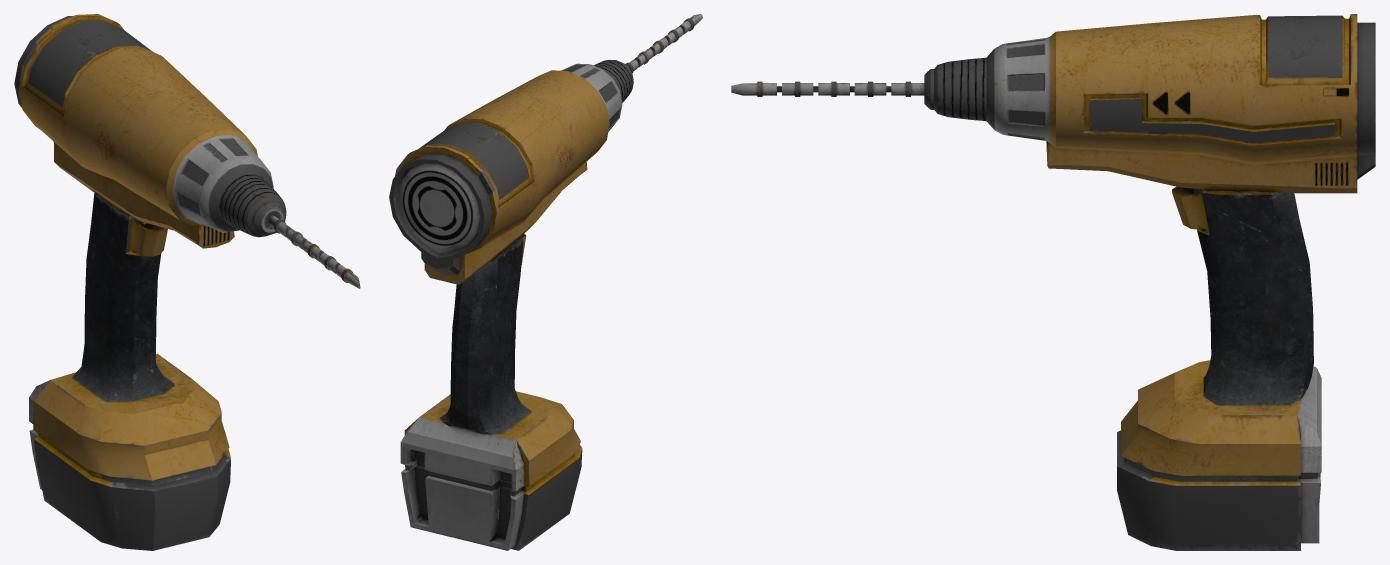
Rendered from Boor.fbx.
3 views of the same model, side by side, from view 1: azimuth 30°, elevation 25°; view 2: azimuth 150°, elevation 25°; view 3: azimuth 270°, elevation 25° (orthographic). The views are drawn at different scales.
Visible parts, largest first — view 1: Cube.024; view 2: Cube.024; view 3: Cube.024.
Boxes of the visible parts, x1=… form: Cube.024: x1=14, y1=14, x2=360, y2=550; Cube.024: x1=389, y1=14, x2=702, y2=550; Cube.024: x1=731, y1=14, x2=1375, y2=550.
Bounding box in the file's own units: 10.55 × 33.05 × 38.73.
